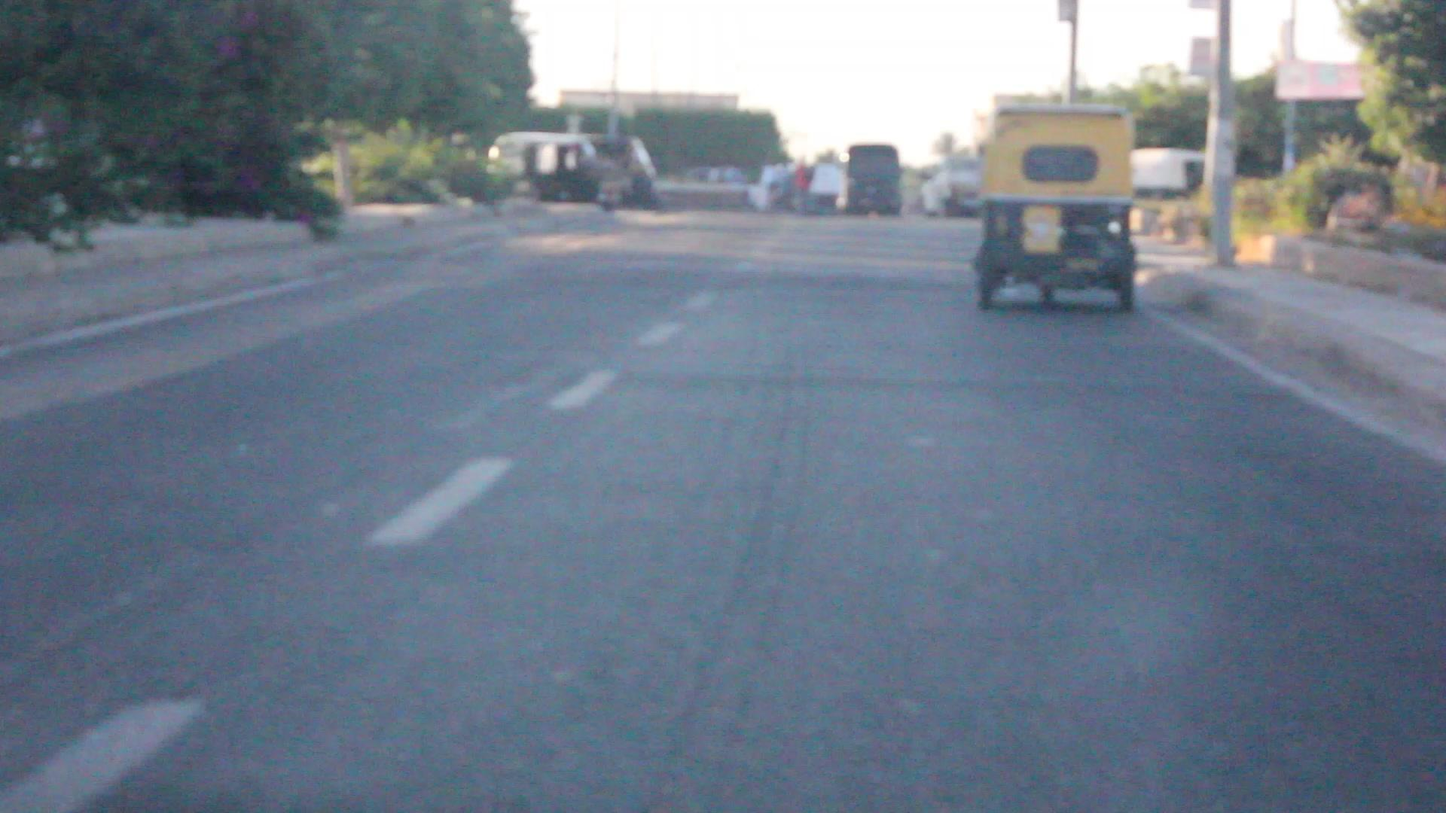Bump: (336, 251, 978, 295)
